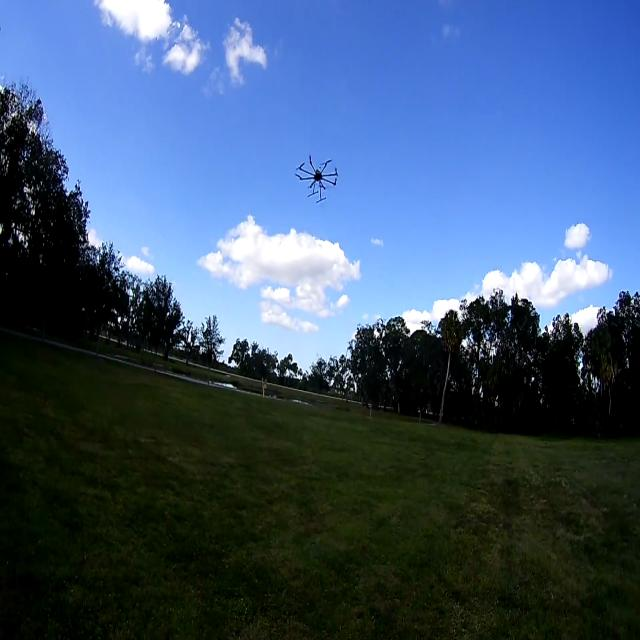drone: (291, 144, 339, 213)
